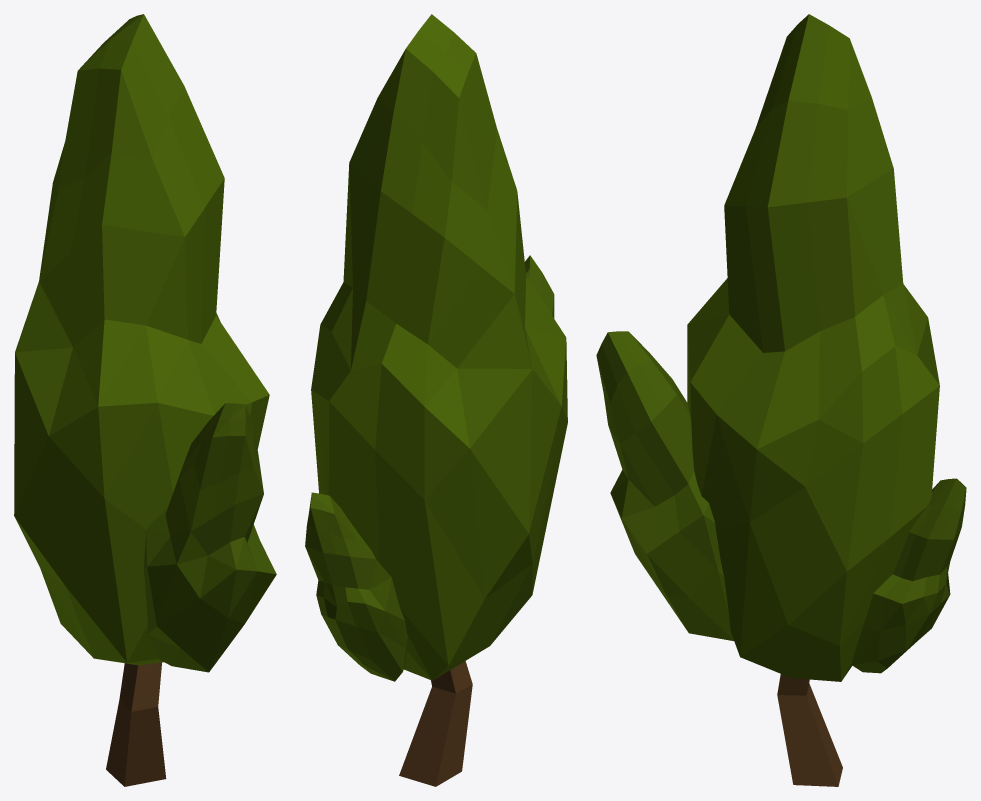
File: tree_5_4.fbx
3 renders of one model, left to right at view 1: azimuth 30°, elevation 25°; view 2: azimuth 150°, elevation 25°; view 3: azimuth 270°, elevation 25°, orthographic.
Parts seen in each view (by area): view 1: tree_5_4; view 2: tree_5_4; view 3: tree_5_4.
Part boxes in pixels (<box>): tree_5_4: <box>14,14,276,786</box>; tree_5_4: <box>305,14,567,786</box>; tree_5_4: <box>596,14,966,786</box>.
Bounding box in the file's own units: 1.96 × 2.91 × 6.62.
